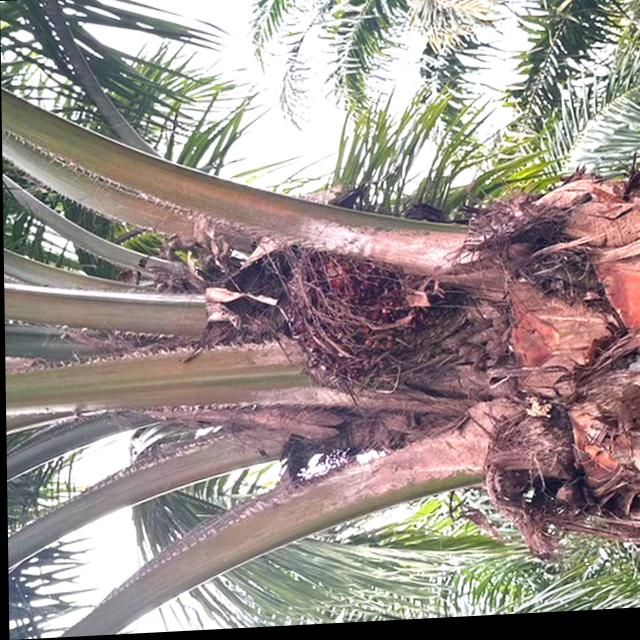ripe: (267, 238, 451, 409)
